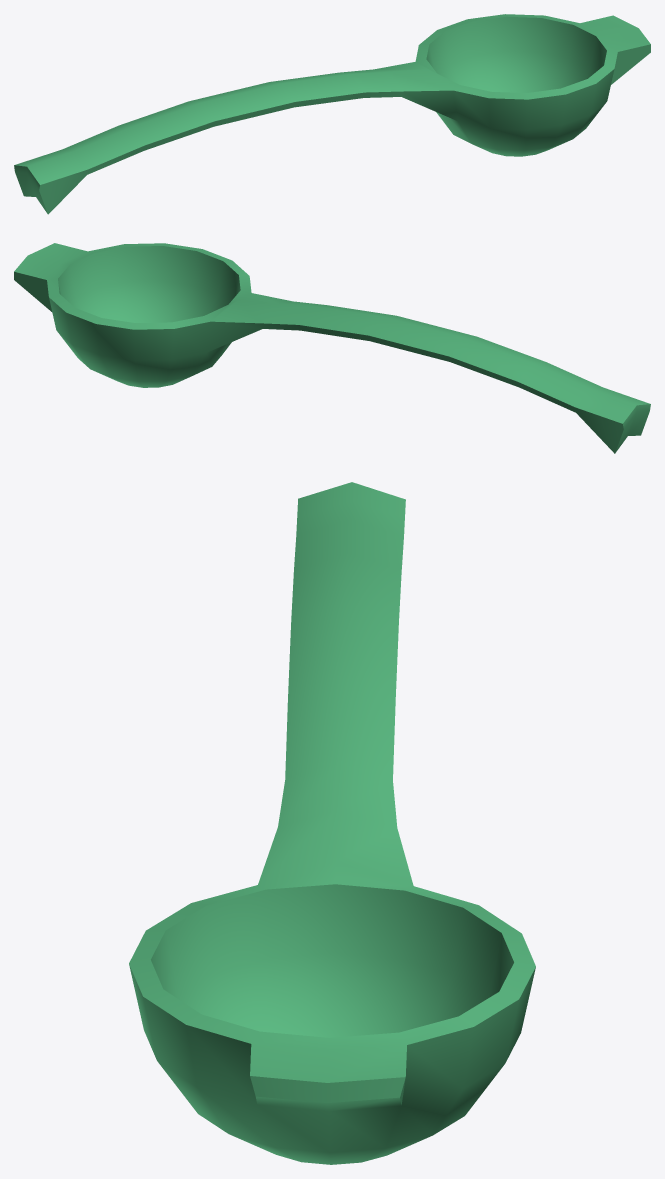
File: juicer_juicer_mechanical_bottom.fbx
3 renders of one model, top to bottom at view 1: azimuth 30°, elevation 25°; view 2: azimuth 150°, elevation 25°; view 3: azimuth 270°, elevation 25°, orthographic. The views are drawn at different scales.
Visible parts, largest first — view 1: juicer juicer mechanical bottom; view 2: juicer juicer mechanical bottom; view 3: juicer juicer mechanical bottom.
Boxes of the visible parts, bbox=[...] form: juicer juicer mechanical bottom: bbox=[14, 14, 650, 214]; juicer juicer mechanical bottom: bbox=[14, 243, 650, 453]; juicer juicer mechanical bottom: bbox=[129, 482, 535, 1164].
Bounding box in the file's own units: 650 × 122 × 189.
Materials: 1 (1 with a texture image).
